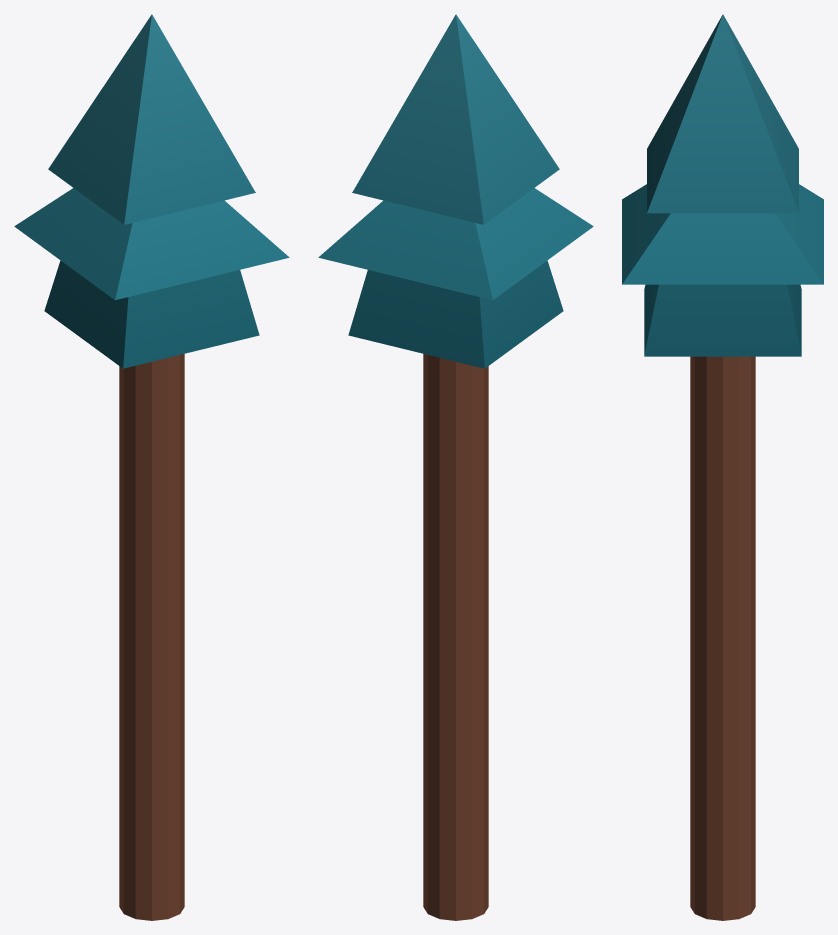
File: Tree_15_gradient_blue_vc.fbx
3 views of the same model, side by side, from view 1: azimuth 30°, elevation 25°; view 2: azimuth 150°, elevation 25°; view 3: azimuth 270°, elevation 25° (orthographic).
Parts seen in each view (by area): view 1: Tree_15_gradient_blue_vc; view 2: Tree_15_gradient_blue_vc; view 3: Tree_15_gradient_blue_vc.
Part boxes in pixels (x1,y1,x2,y2): Tree_15_gradient_blue_vc: (14, 14, 289, 920); Tree_15_gradient_blue_vc: (318, 14, 593, 920); Tree_15_gradient_blue_vc: (622, 14, 823, 920).
Size of the model in its own units: 68.73 by 336 by 68.73.
